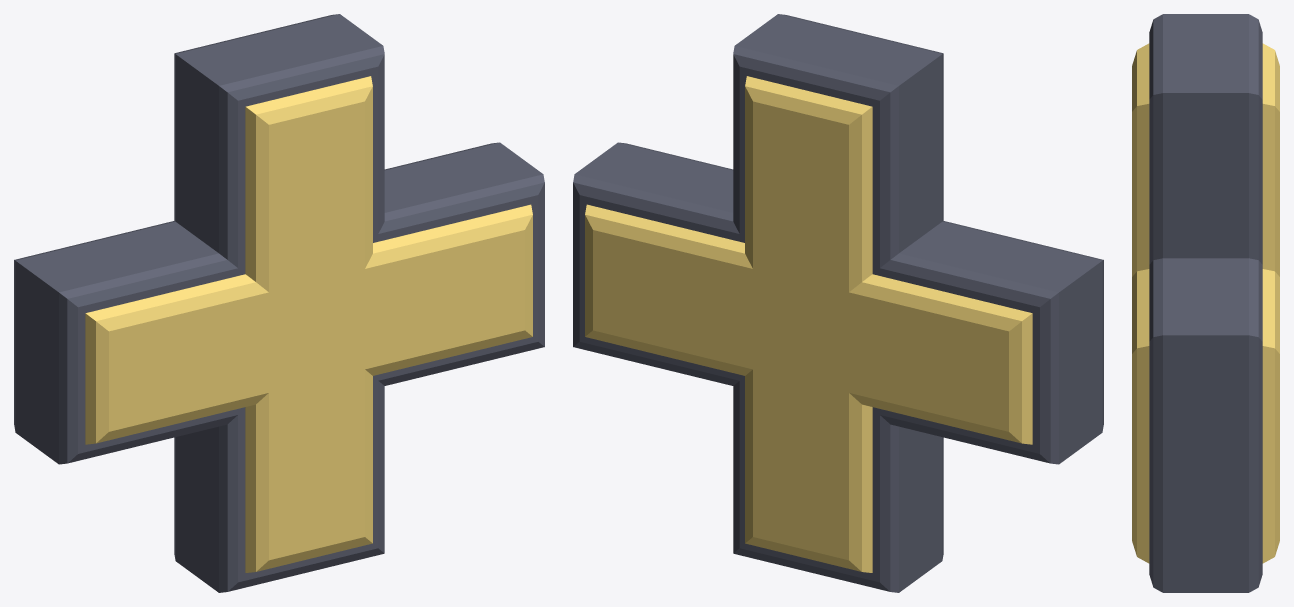
Rendered from game-ui-icon-library-plus-mark-2ea16528__19053.glb.
The picture shows the model from 3 angles, left to right: view 1: azimuth 30°, elevation 25°; view 2: azimuth 150°, elevation 25°; view 3: azimuth 270°, elevation 25°; orthographic projection.
Visible parts, largest first — view 1: plus-mark; view 2: plus-mark; view 3: plus-mark.
Part boxes in pixels (x1=…): plus-mark: x1=14, y1=14, x2=544, y2=592; plus-mark: x1=573, y1=14, x2=1103, y2=592; plus-mark: x1=1132, y1=14, x2=1279, y2=592.
Bounding box in the file's own units: 0.94 × 0.94 × 0.2518.
